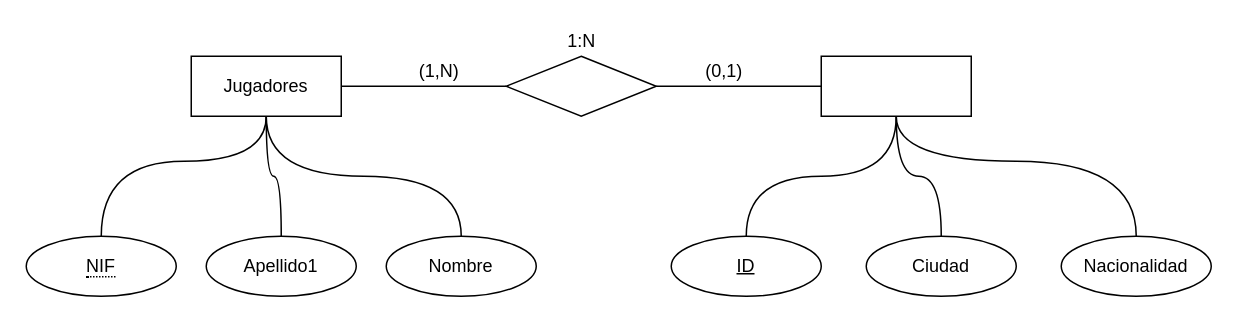
Some shapes in this 1238 by 323 pixel diagram are drawn without their labels. The box of each missing label's shape, as (x1, y1, x2, y2) in pixels:
Equipo: (820, 55, 971, 116)
Tiene: (505, 55, 656, 116)
